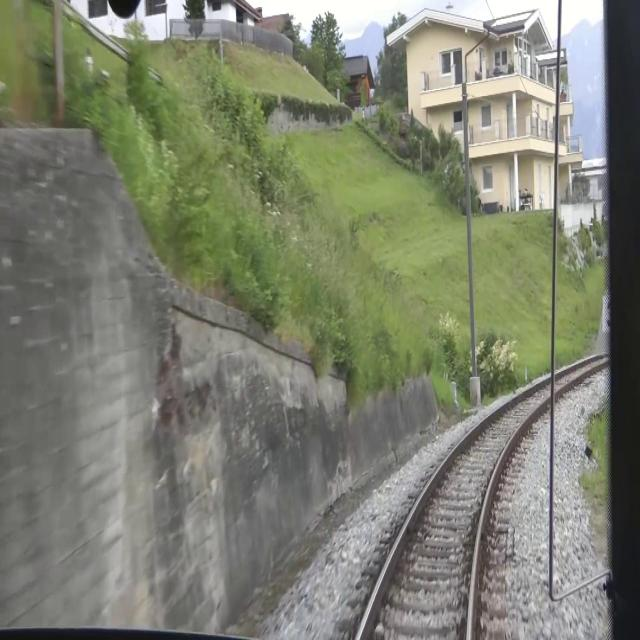rail-track: (360, 359, 596, 639)
